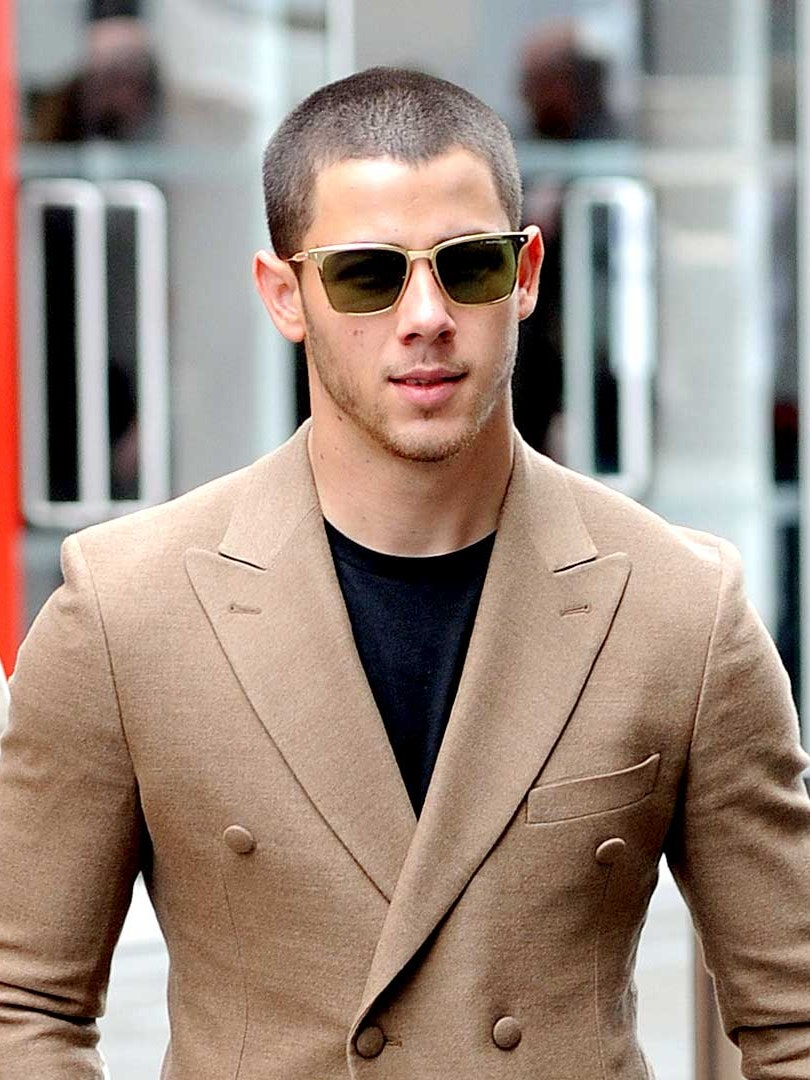lente: (276, 229, 528, 320)
